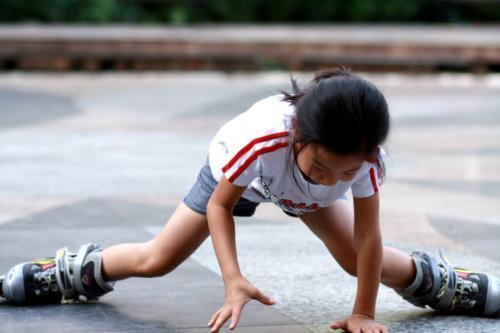Fall-Detected: (0, 49, 500, 333)
